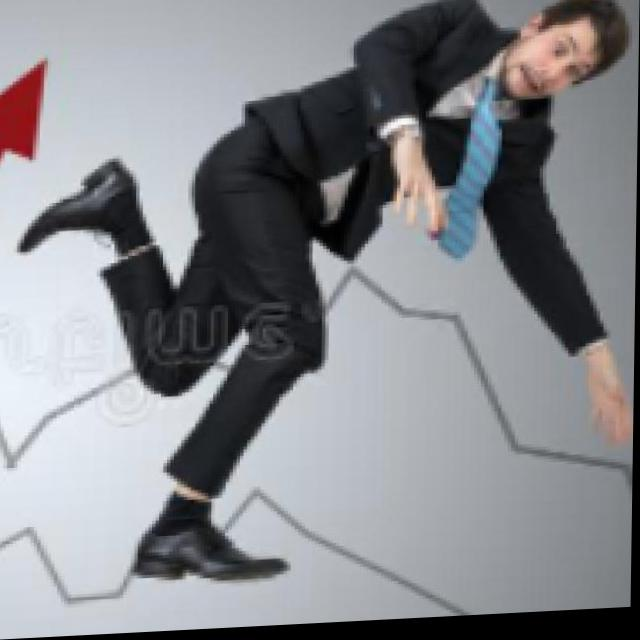fall: (14, 0, 634, 595)
